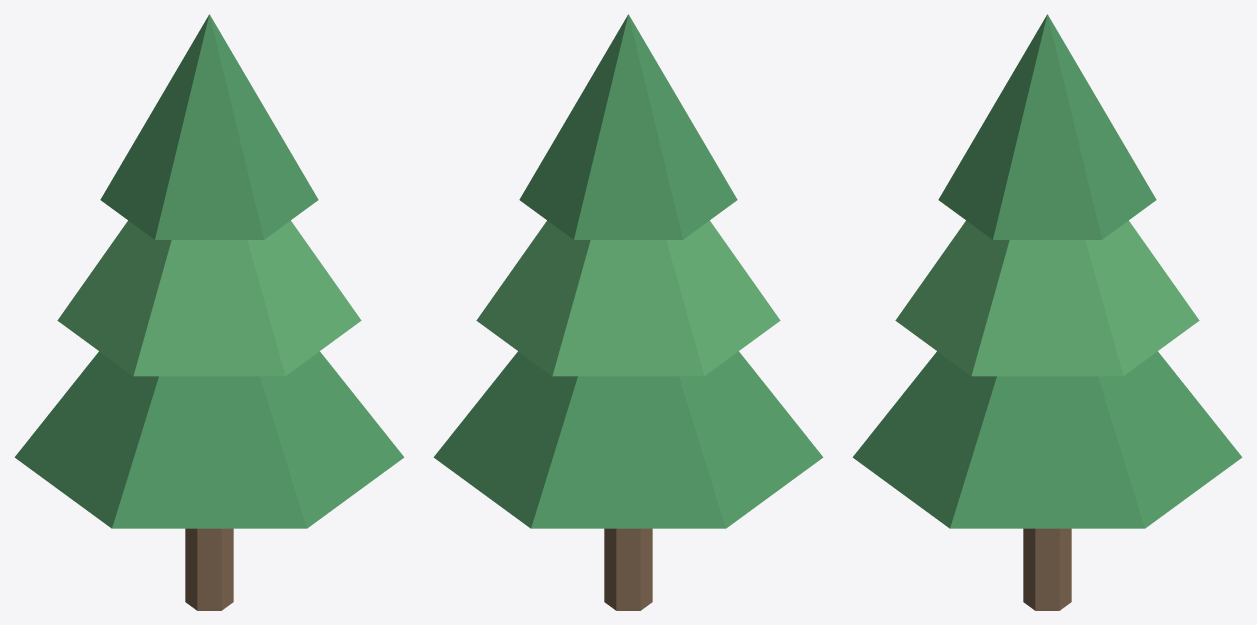
Rendered from tree.glb.
3 renders of one model, left to right at view 1: azimuth 30°, elevation 25°; view 2: azimuth 150°, elevation 25°; view 3: azimuth 270°, elevation 25°, orthographic.
Visible parts, largest first — view 1: Tree_-0.9_9.001; view 2: Tree_-0.9_9.001; view 3: Tree_-0.9_9.001.
Part boxes in pixels (x1,y1,x2,y2): Tree_-0.9_9.001: (14,14,404,610); Tree_-0.9_9.001: (433,14,823,610); Tree_-0.9_9.001: (852,14,1242,610).
Size of the model in its own units: 1.34 by 2.58 by 1.55.
